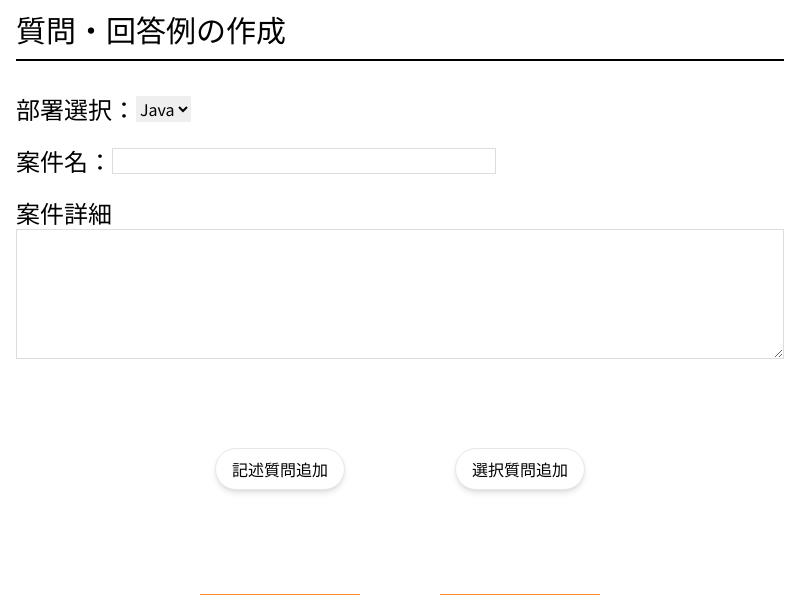
質問・回答例作成画面テスト › 記述式質問追加ボタンクリック
Click the button with test id "addWriteButton" at (280, 469), box [215,448,345,490]
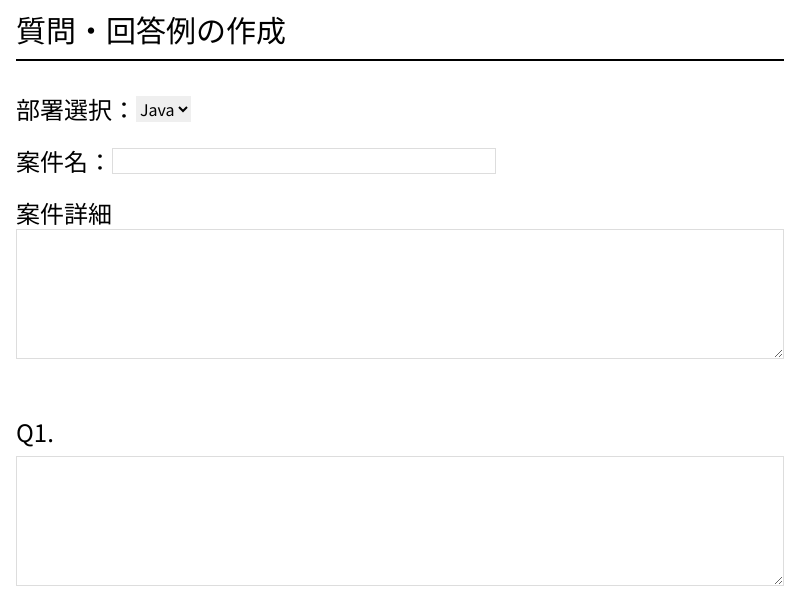
Now the heading with test id "write_1" shows "Q1", box [16,414,54,449]
